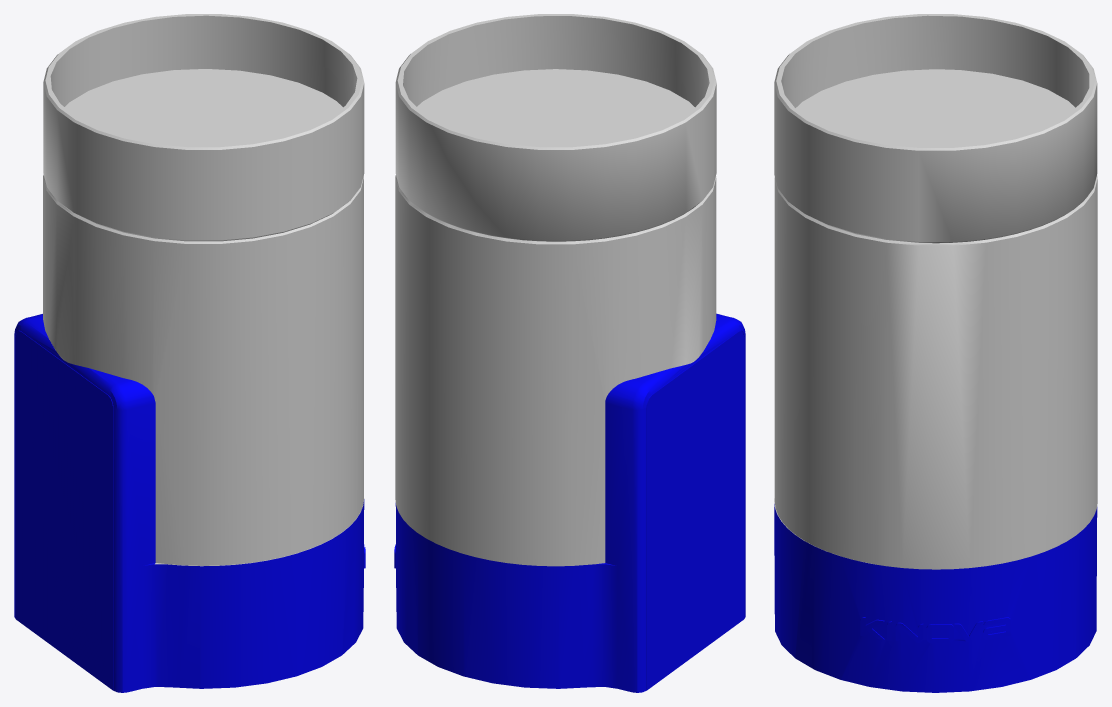
3 views of the same model, side by side, from view 1: azimuth 30°, elevation 25°; view 2: azimuth 150°, elevation 25°; view 3: azimuth 270°, elevation 25° (orthographic).
Parts seen in each view (by area): view 1: base_link; view 2: base_link; view 3: base_link.
Boxes of the visible parts, <box> form: base_link: <box>14,14,365,692</box>; base_link: <box>394,14,745,692</box>; base_link: <box>774,14,1097,692</box>.
Bounding box in the file's own units: 0.0925 × 0.0922 × 0.1708.
